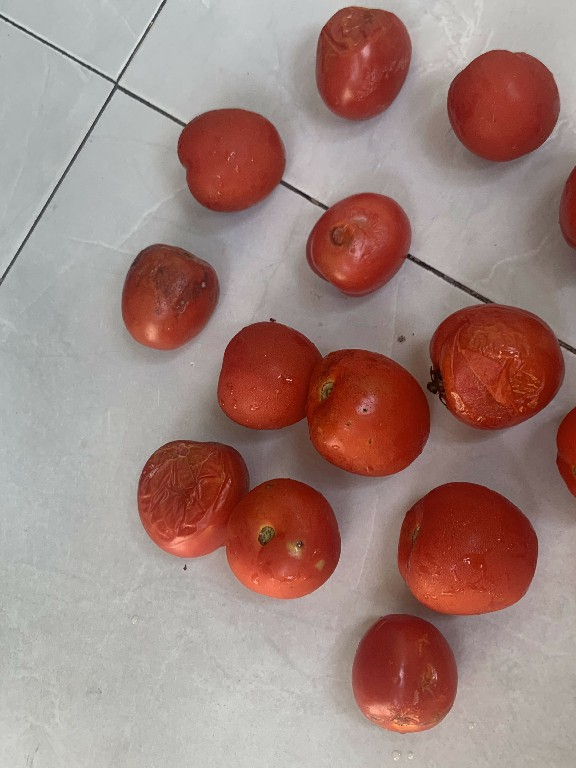NG: (423, 298, 566, 438), (306, 329, 430, 477), (133, 428, 250, 561), (227, 474, 346, 603), (346, 610, 465, 733), (299, 184, 413, 303), (306, 0, 412, 119), (121, 234, 219, 355)
OK: (397, 479, 545, 618), (444, 40, 566, 165), (218, 311, 329, 442), (166, 103, 290, 216)
